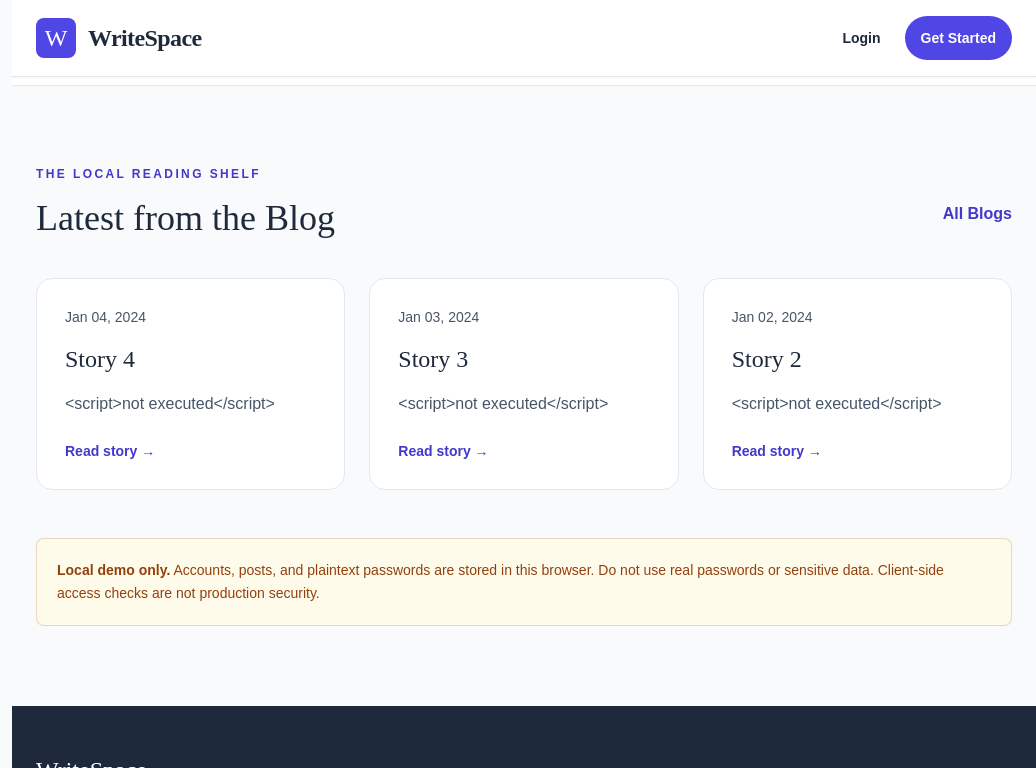
public entry › uses live newest three previews with guest reading redirect and escaped markup
(page scrolled)
Click the link "Story 3".
click(439, 317)  # box [369,278,679,490]
(page scrolled)
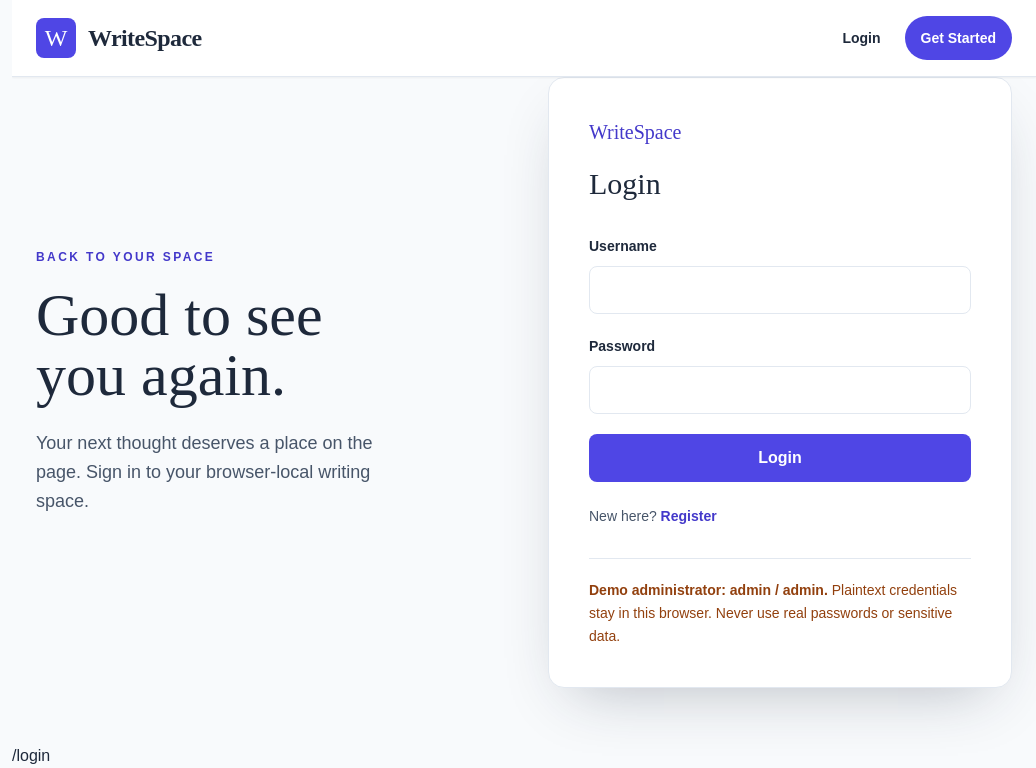
expect the text named "Current route" reads "/login": met, box [12,747,50,764]
